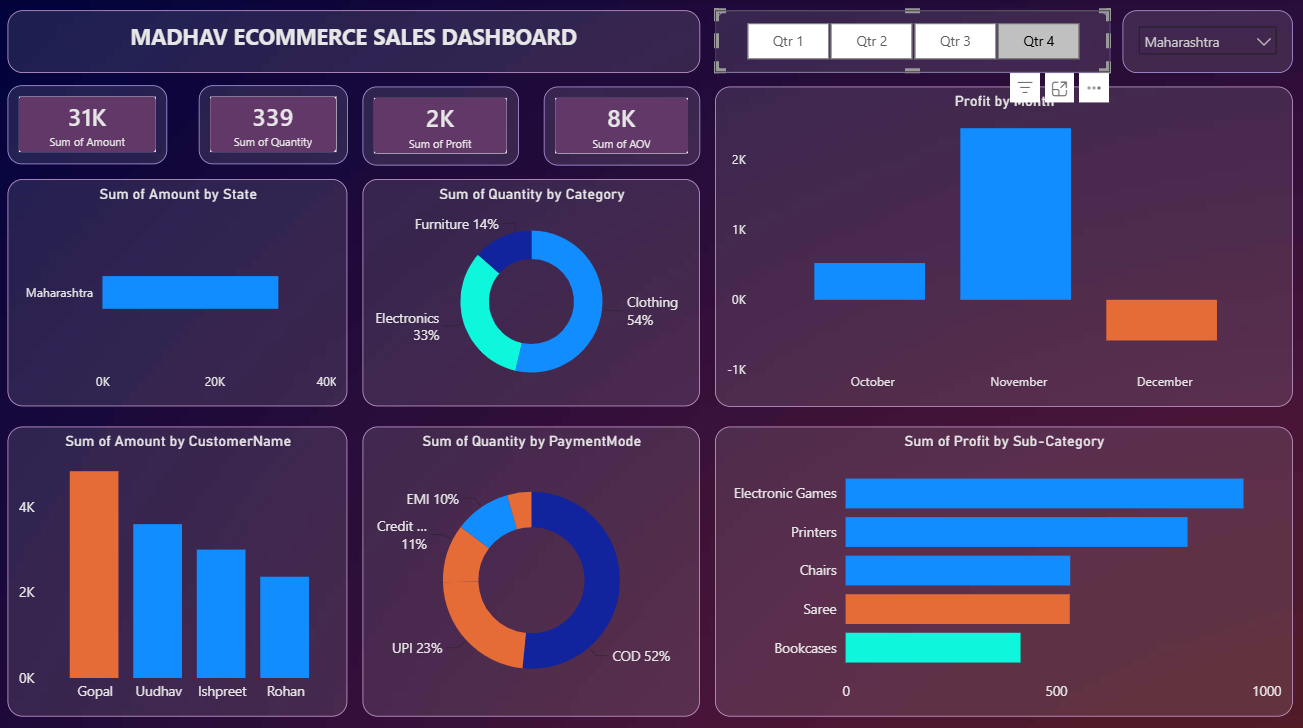

Layout of this report page (visuals, bound fields, positions):
{"tool":"powerbi","page":{"name":"Page 1","canvas":[1280,720],"ordinal":0},"visuals":[{"type":"textbox","box":[7.4,11,679.8,61.4],"z":0},{"type":"columnChart","title":"Profit by Month","fields":{"Category":["Orders.Order Date.Variation.Date Hierarchy.Month"],"Y":["Sum(Details.Profit)"]},"box":[701.8,85.9,566.9,314.1],"z":1000},{"type":"barChart","fields":{"Y":["Sum(Details.Profit)"],"Category":["Details.Sub-Category"]},"box":[701.8,419.6,566.9,284.7],"z":2000},{"type":"donutChart","fields":{"Y":["Sum(Details.Quantity)"],"Category":["Details.PaymentMode"]},"box":[355.8,419.6,331.3,284.7],"z":3000},{"type":"donutChart","fields":{"Category":["Details.Category"],"Y":["Sum(Details.Quantity)"]},"box":[355.8,176.7,331.3,223.3],"z":4000},{"type":"cardVisual","fields":{"Data":["Sum(Details.Amount)"]},"box":[7.4,84.7,157.1,77.3],"z":5000},{"type":"cardVisual","fields":{"Data":["Sum(Details.Quantity)"]},"box":[195.1,84.7,146,77.3],"z":6000},{"type":"cardVisual","fields":{"Data":["Sum(Details.Profit)"]},"box":[355.8,85.9,153.4,77.3],"z":7000},{"type":"cardVisual","fields":{"Data":["Sum(Details.AOV)"]},"box":[533.7,85.9,153.4,77.3],"z":8000},{"type":"barChart","fields":{"Category":["Orders.State"],"Y":["Sum(Details.Amount)"]},"box":[7.4,176.7,333.7,223.3],"z":9000},{"type":"columnChart","fields":{"Category":["Orders.CustomerName"],"Y":["Sum(Details.Amount)"]},"box":[7.4,419.6,333.7,284.7],"z":10000},{"type":"slicer","fields":{"Values":["Orders.Order Date.Variation.Date Hierarchy.Quarter"]},"box":[701.8,11,387.7,61.4],"z":11000},{"type":"slicer","fields":{"Values":["Orders.State"]},"box":[1101.8,11,166.9,61.4],"z":12000}]}

Visuals, with their boxes in screenshot pixels (x1, y1, x2, y2), scaled from the page's 1280x720 canvas onto the 1303x728 screenshot:
textbox: (left=8, top=11, right=700, bottom=73)
"Profit by Month" columnChart: (left=714, top=87, right=1291, bottom=404)
barChart - Sum(Details.Profit) x Details.Sub-Category: (left=714, top=424, right=1291, bottom=712)
donutChart - Sum(Details.Quantity) x Details.PaymentMode: (left=362, top=424, right=699, bottom=712)
donutChart - Details.Category x Sum(Details.Quantity): (left=362, top=179, right=699, bottom=404)
cardVisual - Sum(Details.Amount): (left=8, top=86, right=167, bottom=164)
cardVisual - Sum(Details.Quantity): (left=199, top=86, right=347, bottom=164)
cardVisual - Sum(Details.Profit): (left=362, top=87, right=518, bottom=165)
cardVisual - Sum(Details.AOV): (left=543, top=87, right=699, bottom=165)
barChart - Orders.State x Sum(Details.Amount): (left=8, top=179, right=347, bottom=404)
columnChart - Orders.CustomerName x Sum(Details.Amount): (left=8, top=424, right=347, bottom=712)
slicer - Orders.Order Date.Variation.Date Hierarchy.Quarter: (left=714, top=11, right=1109, bottom=73)
slicer - Orders.State: (left=1122, top=11, right=1291, bottom=73)
